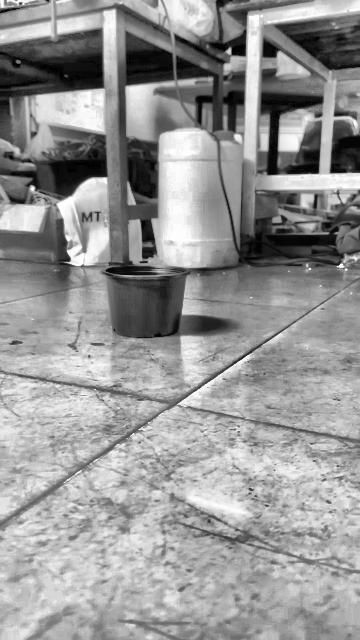pot: (102, 264, 189, 337)
